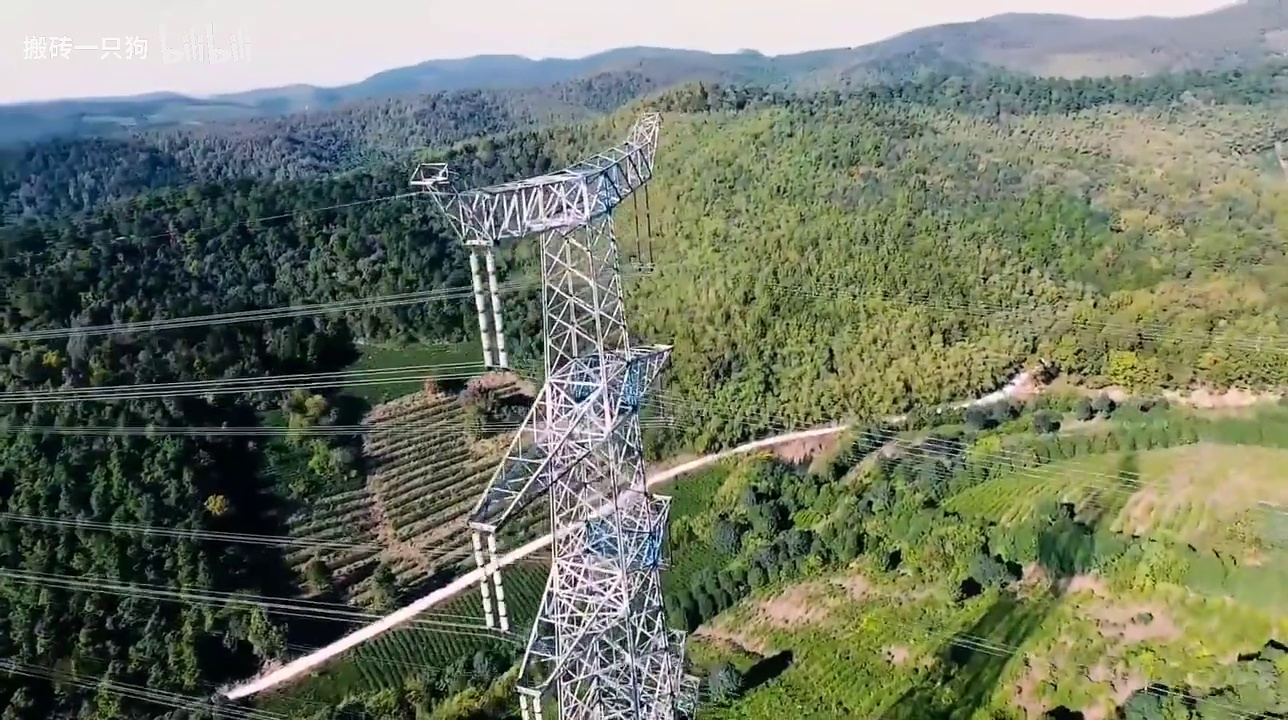tower_body: (388, 101, 716, 720)
tower_foot: (490, 616, 708, 718)
tower_head: (399, 111, 672, 245)
